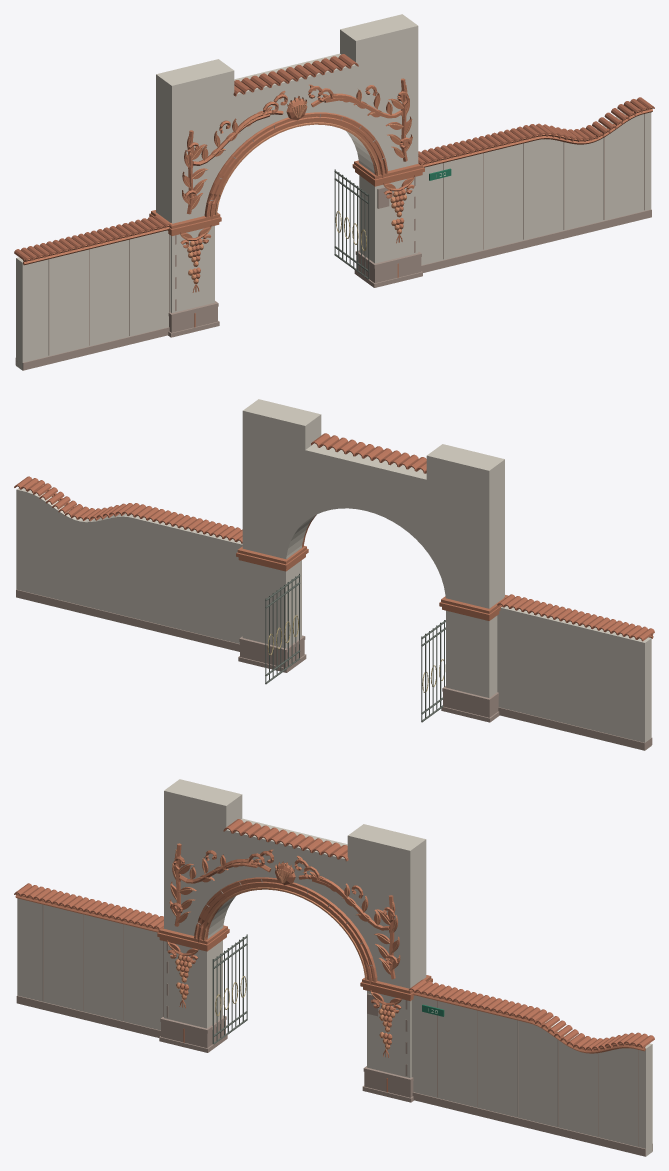
The model's file is changning-weile-garden-taian-gate-lod.glb.
3 renders of one model, top to bottom at view 1: azimuth 30°, elevation 25°; view 2: azimuth 150°, elevation 25°; view 3: azimuth 330°, elevation 25°, orthographic.
Parts seen in each view (by area): view 1: 卫乐园泰安路120弄街门; view 2: 卫乐园泰安路120弄街门; view 3: 卫乐园泰安路120弄街门.
Boxes of the visible parts, left/top/right/bottom form: 卫乐园泰安路120弄街门: left=14, top=14, right=654, bottom=370; 卫乐园泰安路120弄街门: left=14, top=399, right=654, bottom=750; 卫乐园泰安路120弄街门: left=14, top=779, right=654, bottom=1156.
Size of the model in its own units: 16.89 by 6.41 by 2.01.
